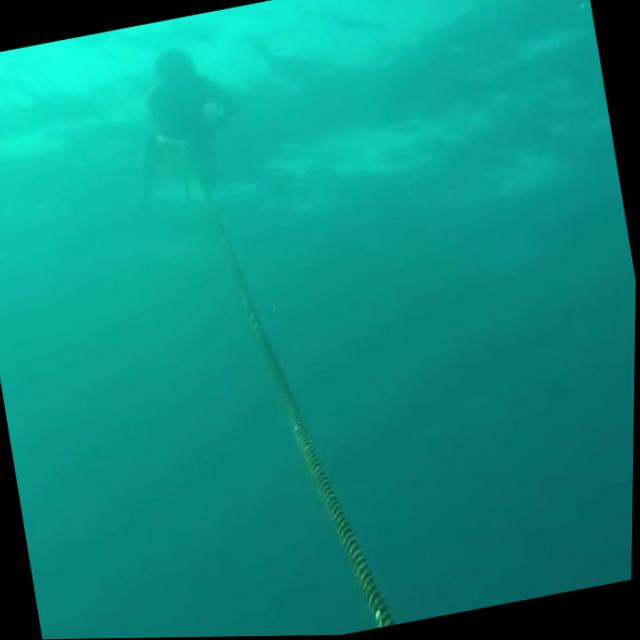human: (101, 26, 267, 255)
